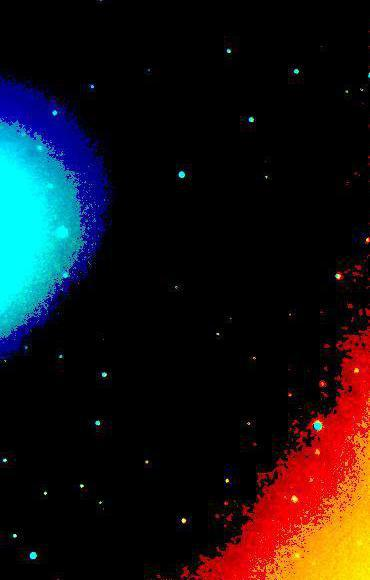star: (43, 72, 73, 102)
